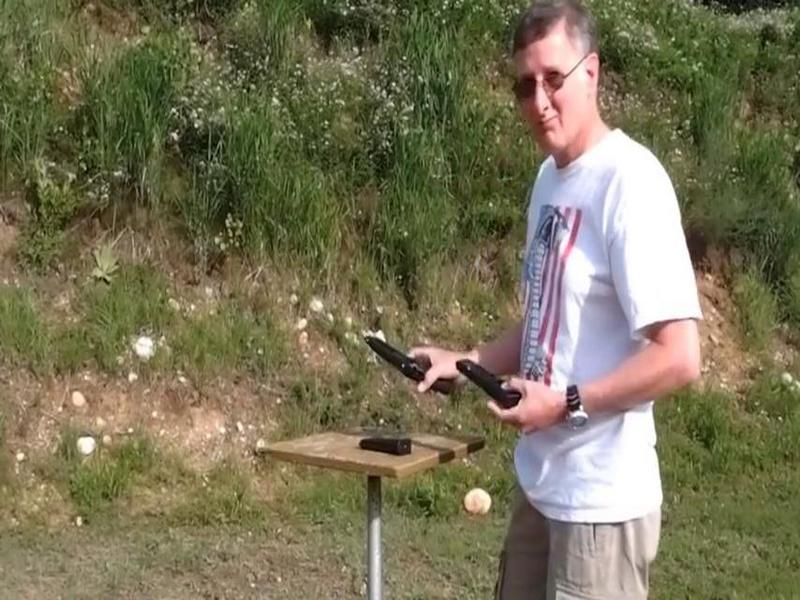Pistola: (359, 318, 459, 401)
